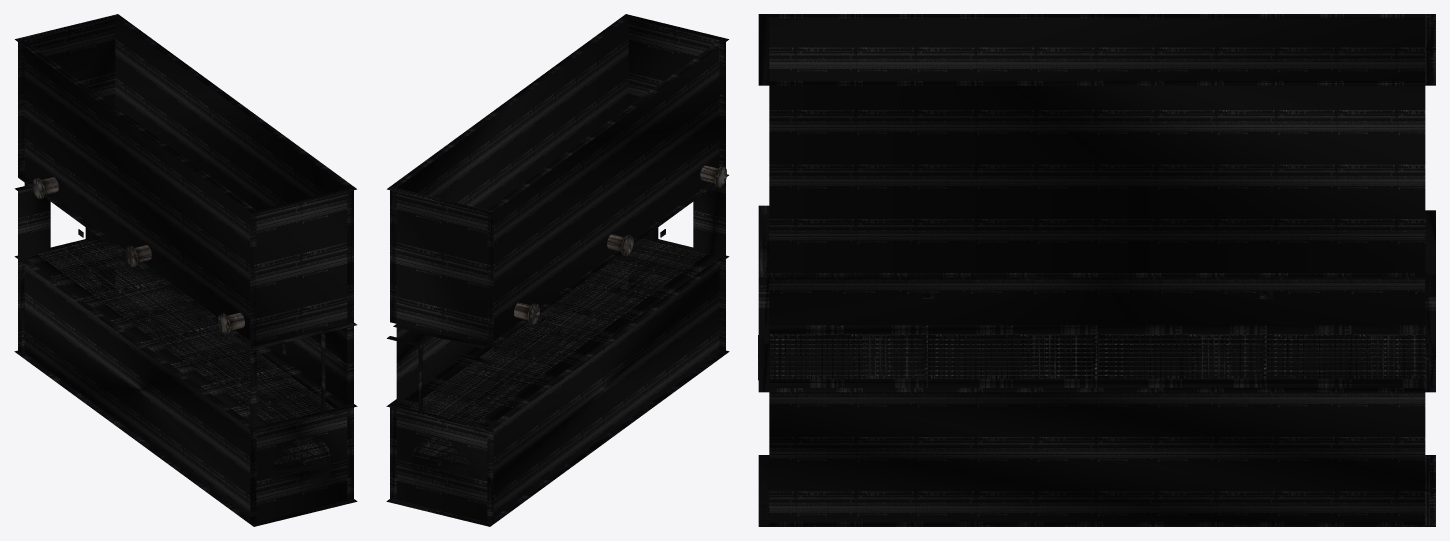
Rendered from room2pipes_opt.obj.
3 views of the same model, side by side, from view 1: azimuth 30°, elevation 25°; view 2: azimuth 150°, elevation 25°; view 3: azimuth 270°, elevation 25° (orthographic). The views are drawn at different scales.
Bounding box in the file's own units: 28.4 × 73.65 × 102.
5 materials, 5 textured.
